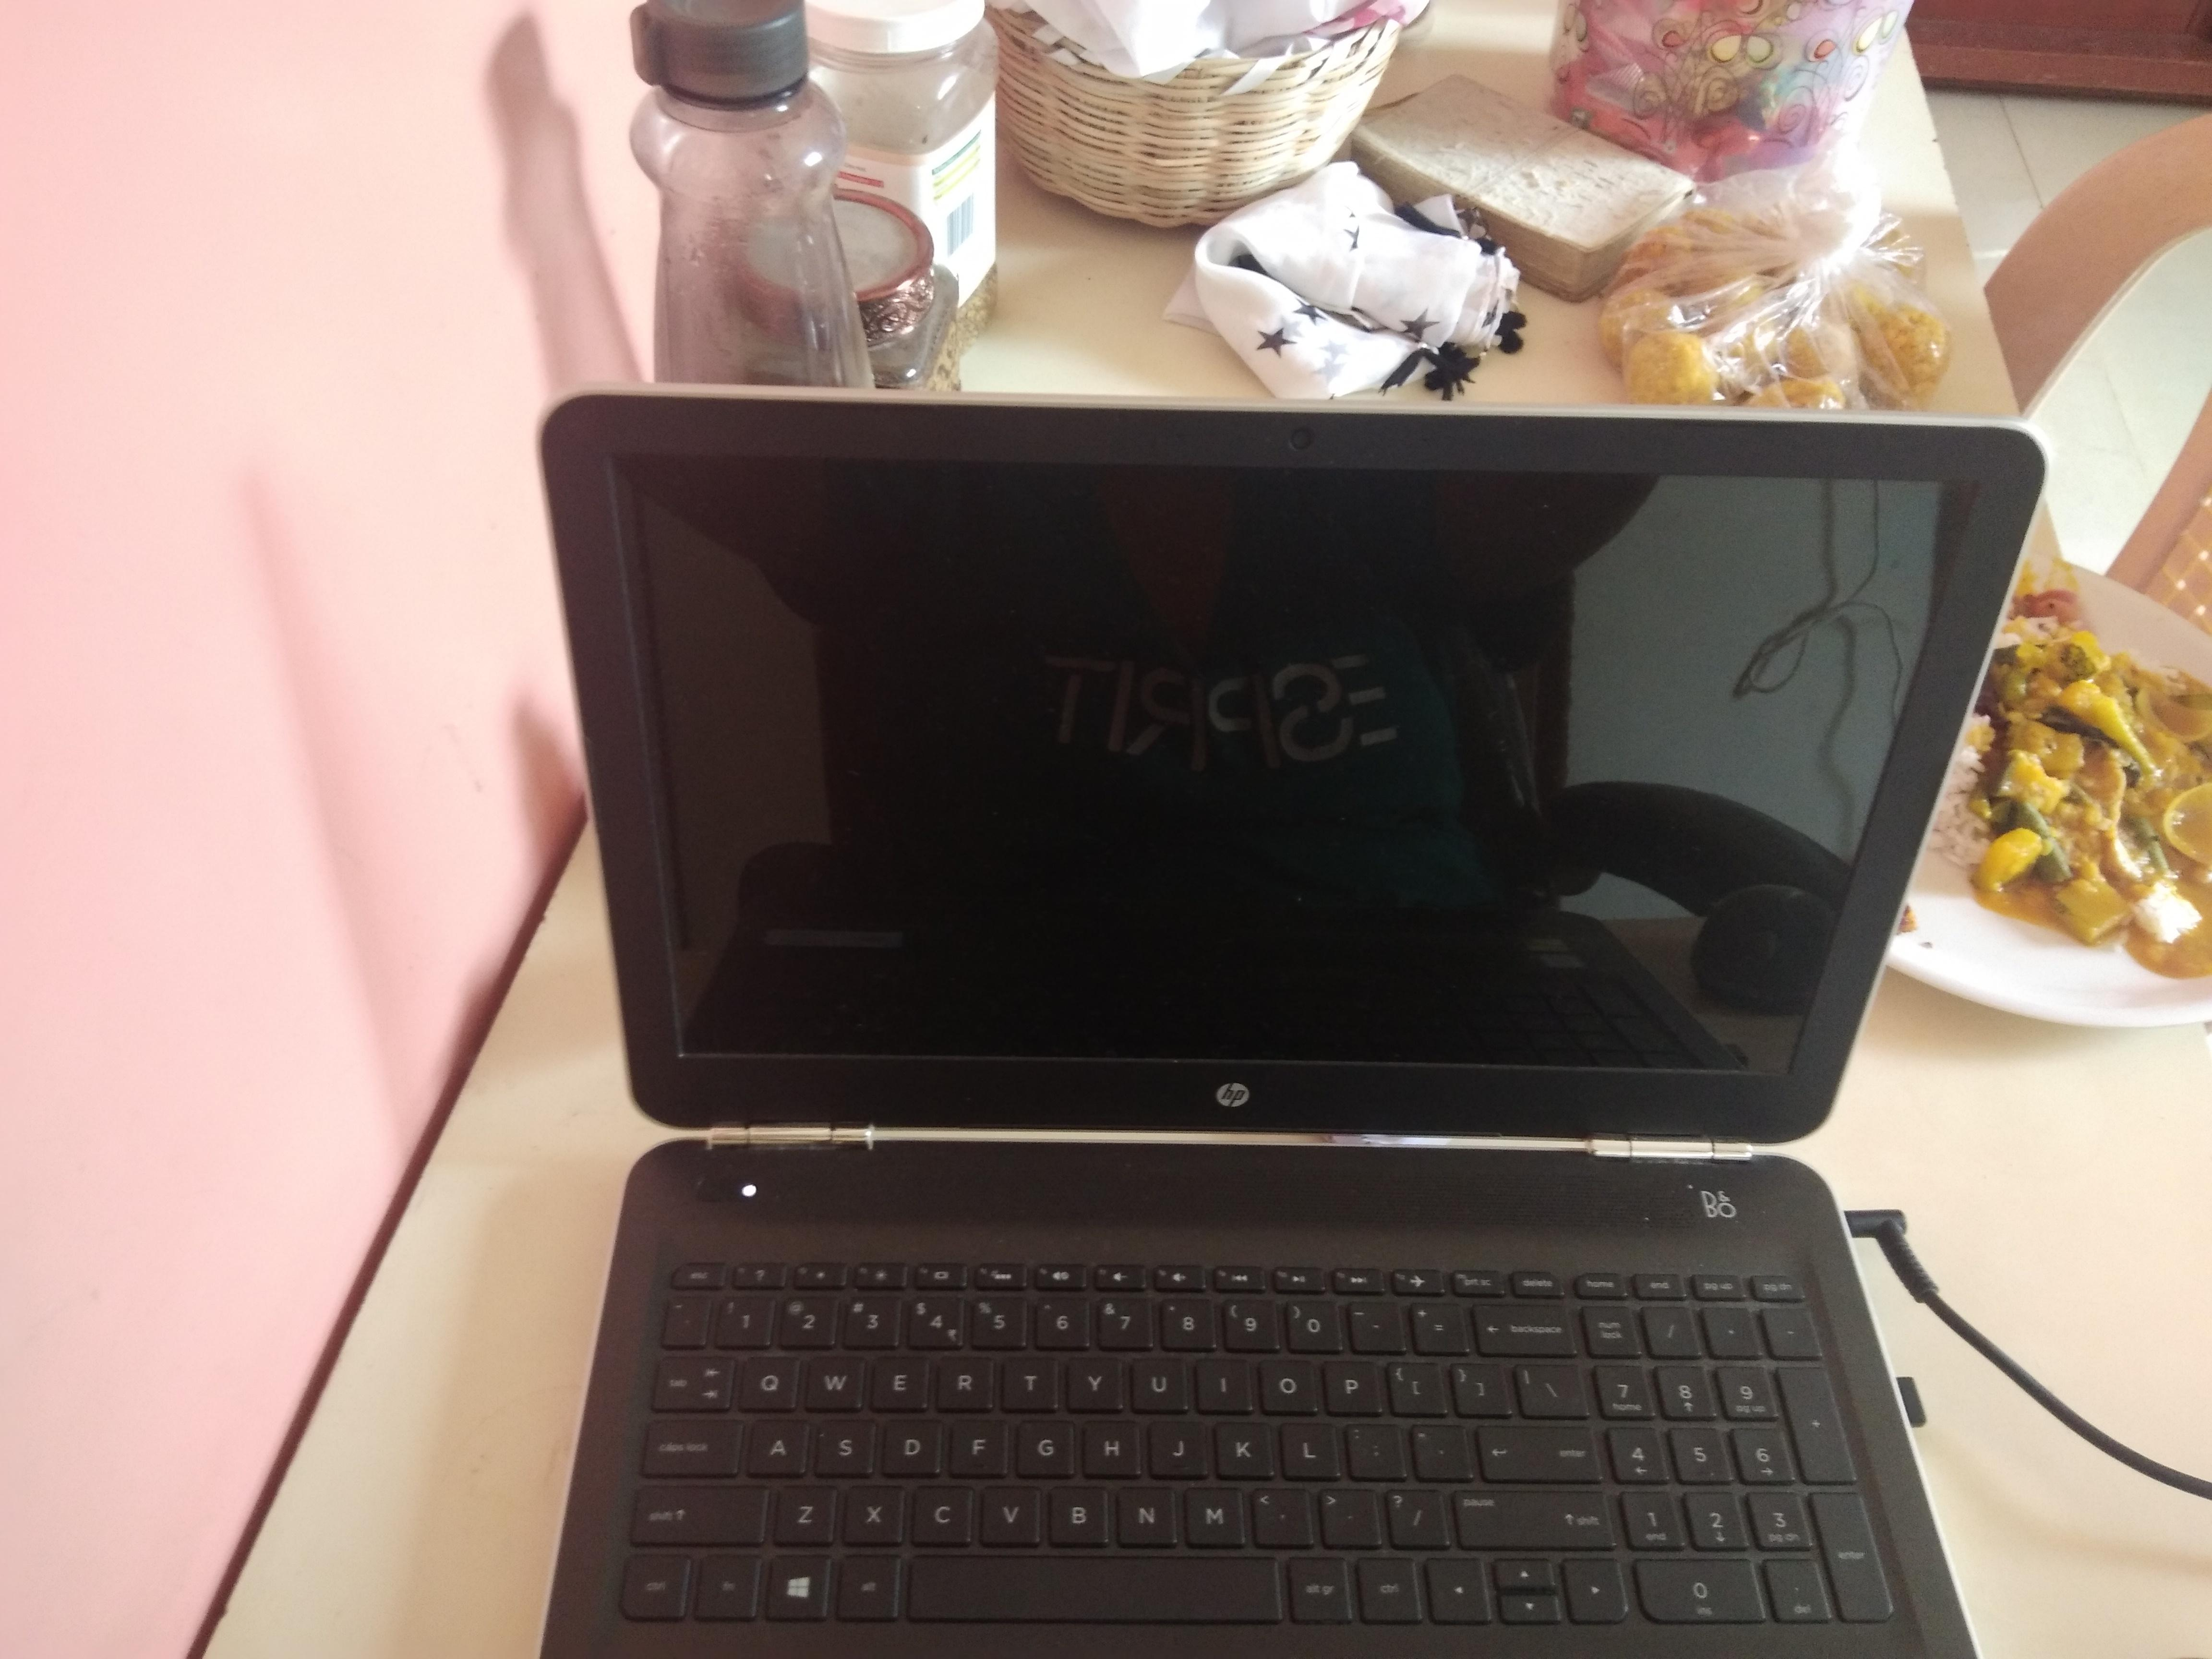laptop: (484, 368, 2069, 1659)
